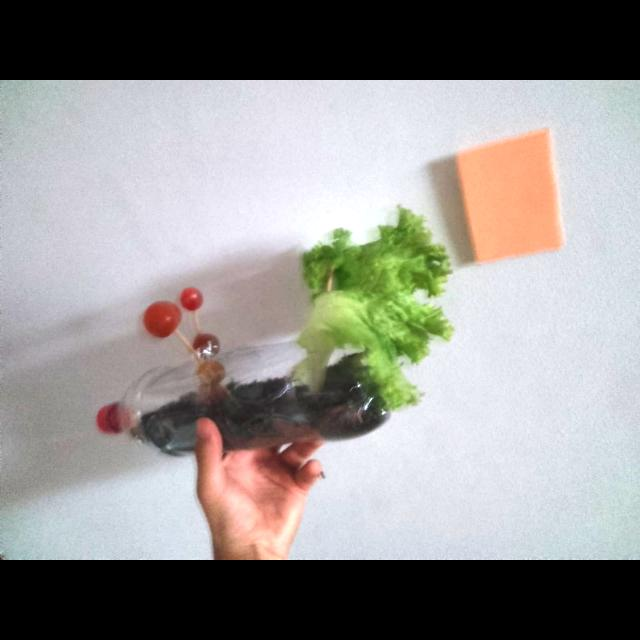card: (457, 130, 563, 261)
fruit_maturation: (197, 360, 225, 385)
fully_grown: (143, 301, 182, 338), (180, 287, 202, 311)
